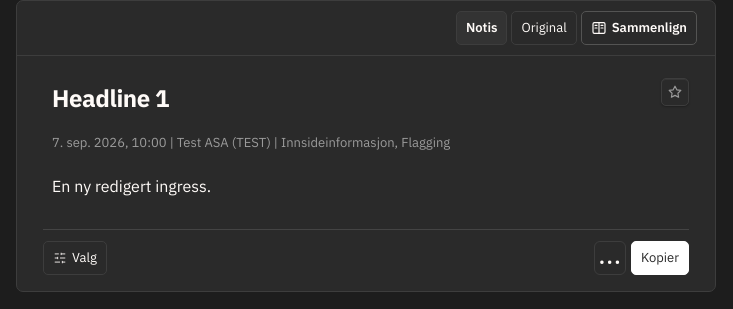
Test: opens title suggestions at the headline and sends the visible body without hover editing
This screenshot has width=733, height=309.
Click the button with class "titleSuggestBtn" at (675,92), box [661,78,689,106]
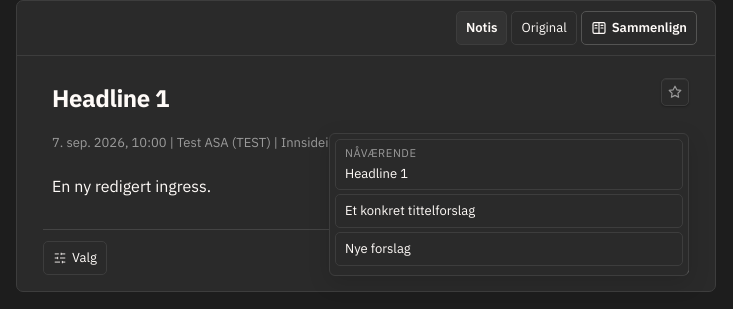
Check: the element with class "titleSuggestDropdown" shows "Et konkret tittelforslag"
Hover over the button "Et konkret tittelforslag" at (410,211), box [335,194,683,228]
Check: the heading "Headline 1" is shown, box [52,82,169,114]
Click the button "Et konkret tittelforslag" at (410,211), box [335,194,683,228]
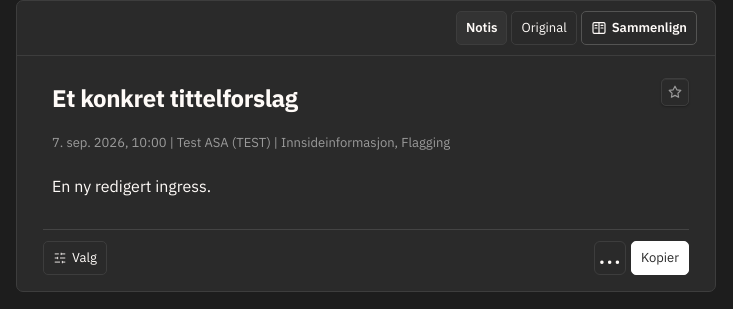
Check: the heading "Et konkret tittelforslag" is shown, box [52,82,298,114]
